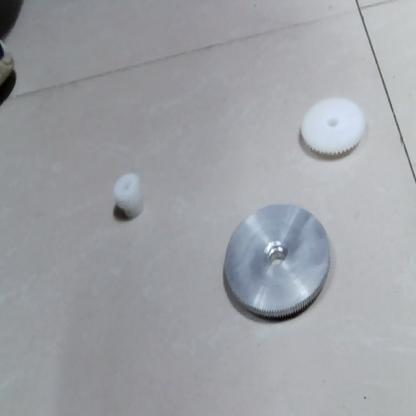FOD: (222, 200, 338, 323), (287, 95, 373, 165), (108, 165, 148, 226)
